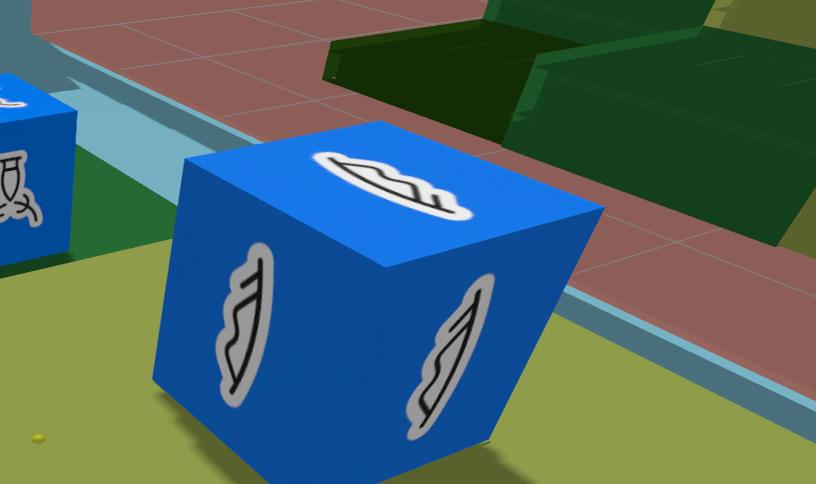KFS_REAL: (153, 122, 602, 483), (406, 274, 494, 439), (312, 151, 473, 220), (215, 242, 273, 406), (0, 157, 22, 200)
